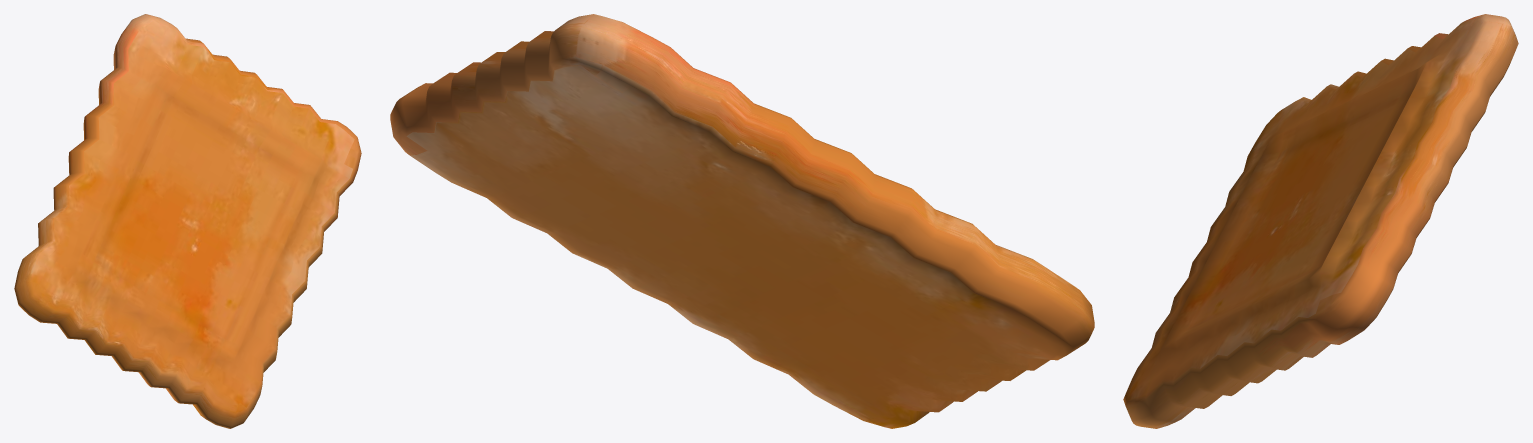
Rendered from 04-biscuit-model.glb.
The picture shows the model from 3 angles, left to right: view 1: azimuth 30°, elevation 25°; view 2: azimuth 150°, elevation 25°; view 3: azimuth 270°, elevation 25°; orthographic projection. The views are drawn at different scales.
Parts seen in each view (by area): view 1: 04-biscuit-model; view 2: 04-biscuit-model; view 3: 04-biscuit-model.
Part boxes in pixels (<box>): 04-biscuit-model: <box>14,14,361,428</box>; 04-biscuit-model: <box>390,14,1094,428</box>; 04-biscuit-model: <box>1123,14,1518,428</box>.
Bounding box in the file's own units: 2.74 × 2.21 × 1.83.
Materials: 1 (1 with a texture image).
